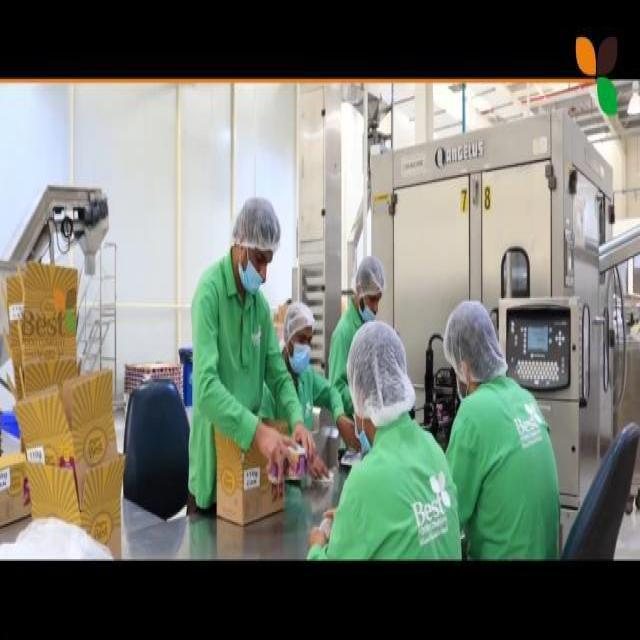bare_hand: (255, 399, 302, 480), (283, 408, 320, 463), (304, 448, 331, 493), (306, 525, 332, 557)
